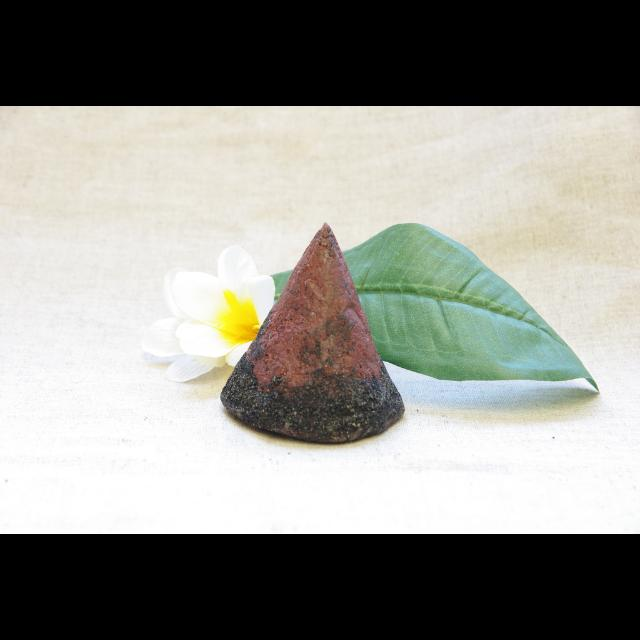Flower: (138, 244, 274, 388)
